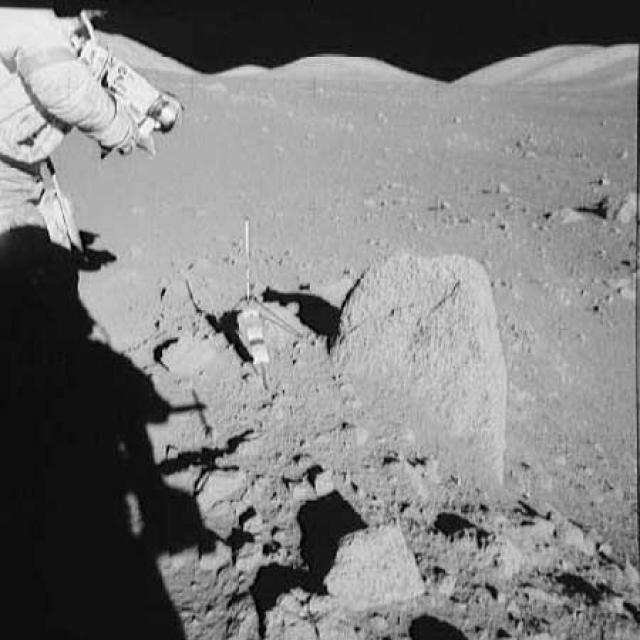artifact: (196, 210, 317, 376)
rock: (343, 242, 523, 490), (303, 522, 436, 598), (259, 575, 369, 639), (189, 456, 248, 514), (534, 199, 580, 234), (604, 181, 638, 226)
